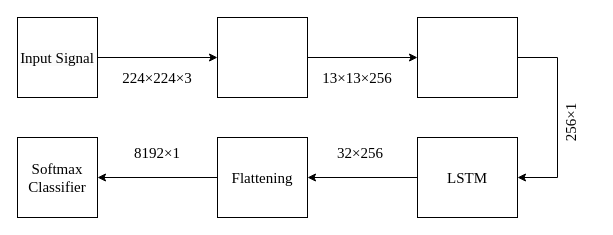
Some shapes in this 613 by 235 pixel diagram are drawn without their labels. Each missing label, with the centre of its shape:
"AlexNet" goes at [262,57].
"Global Average Pooling" goes at [467,57].
